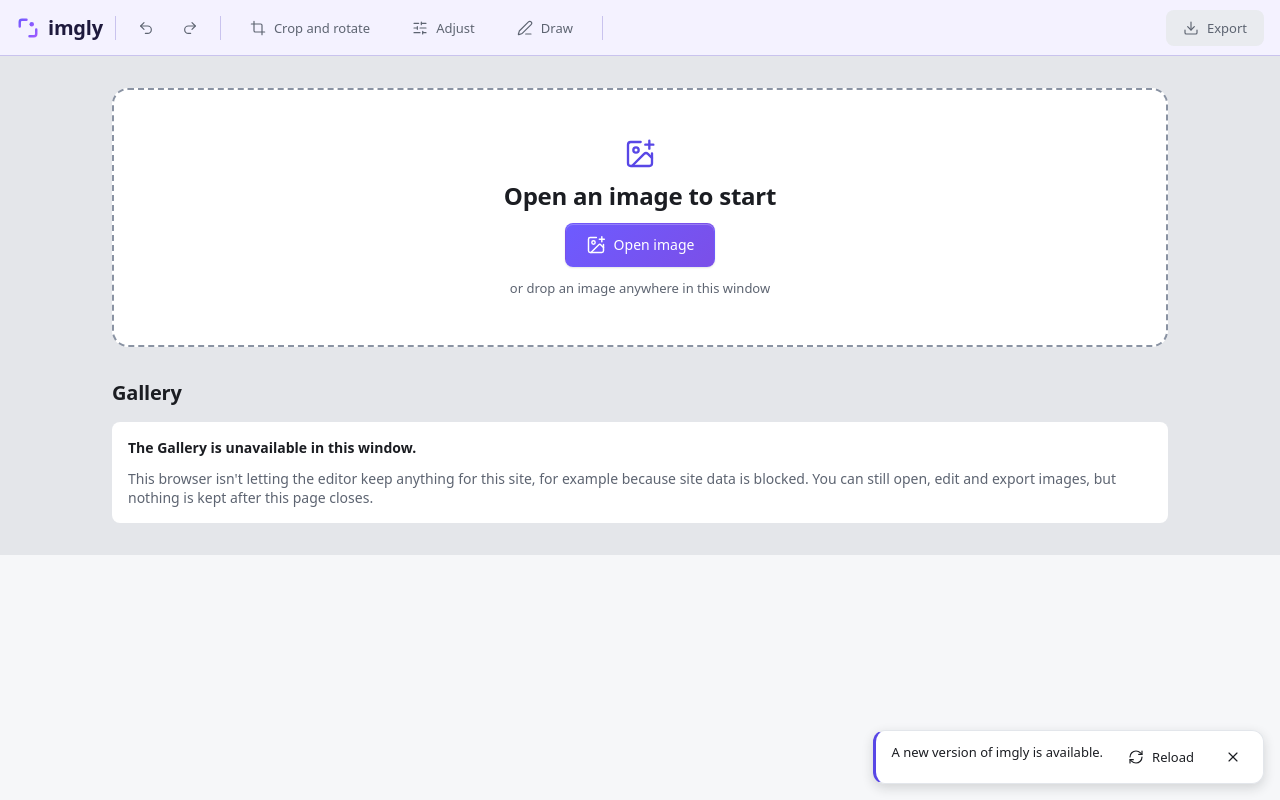
Test: App install and update wiring (pwa-install-update T12) › returns focus to the Reload action when Escape closes the confirmation (focused before the click: nothing) (SCR-06, AC-12)
The image size is (1280, 800).
Click the button "Reload" at (1161, 757), box [1115,743,1207,771]
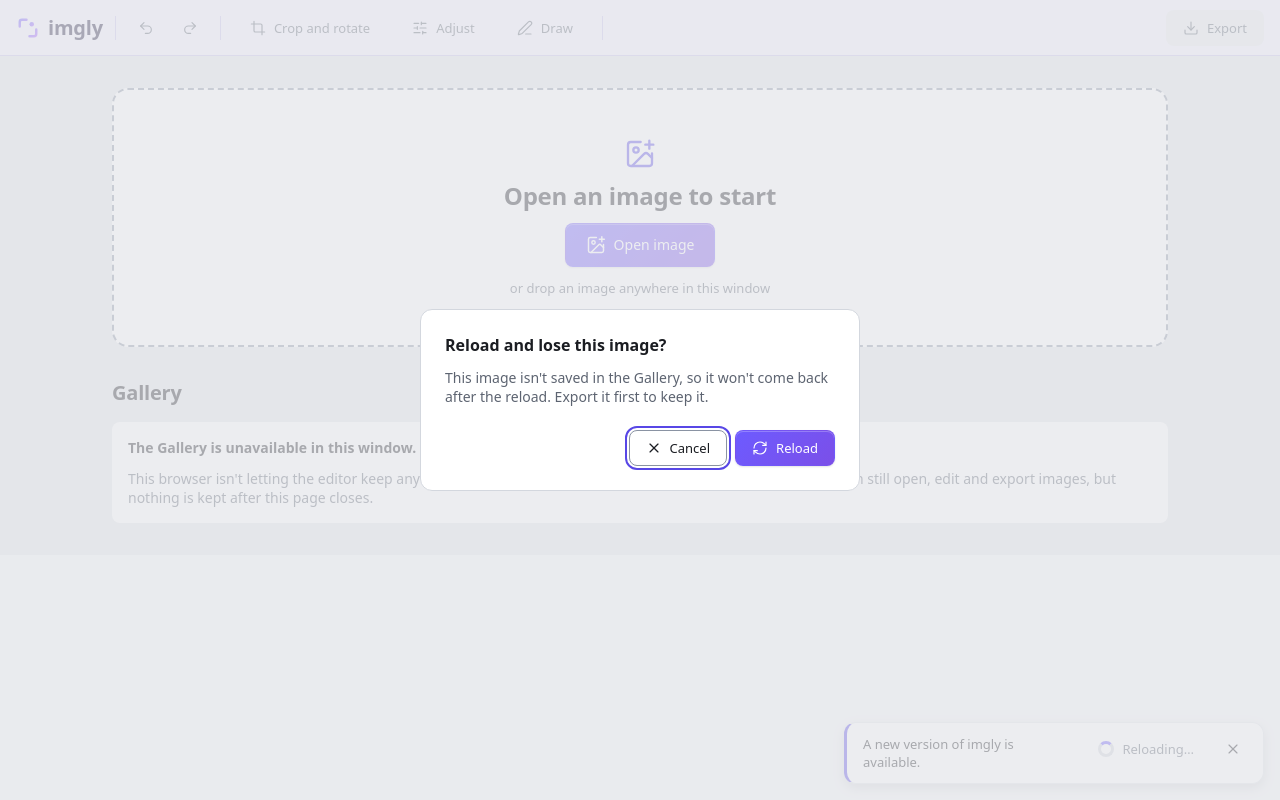
Now the dialog is shown
Press Escape in the dialog, box [420,309,860,491]
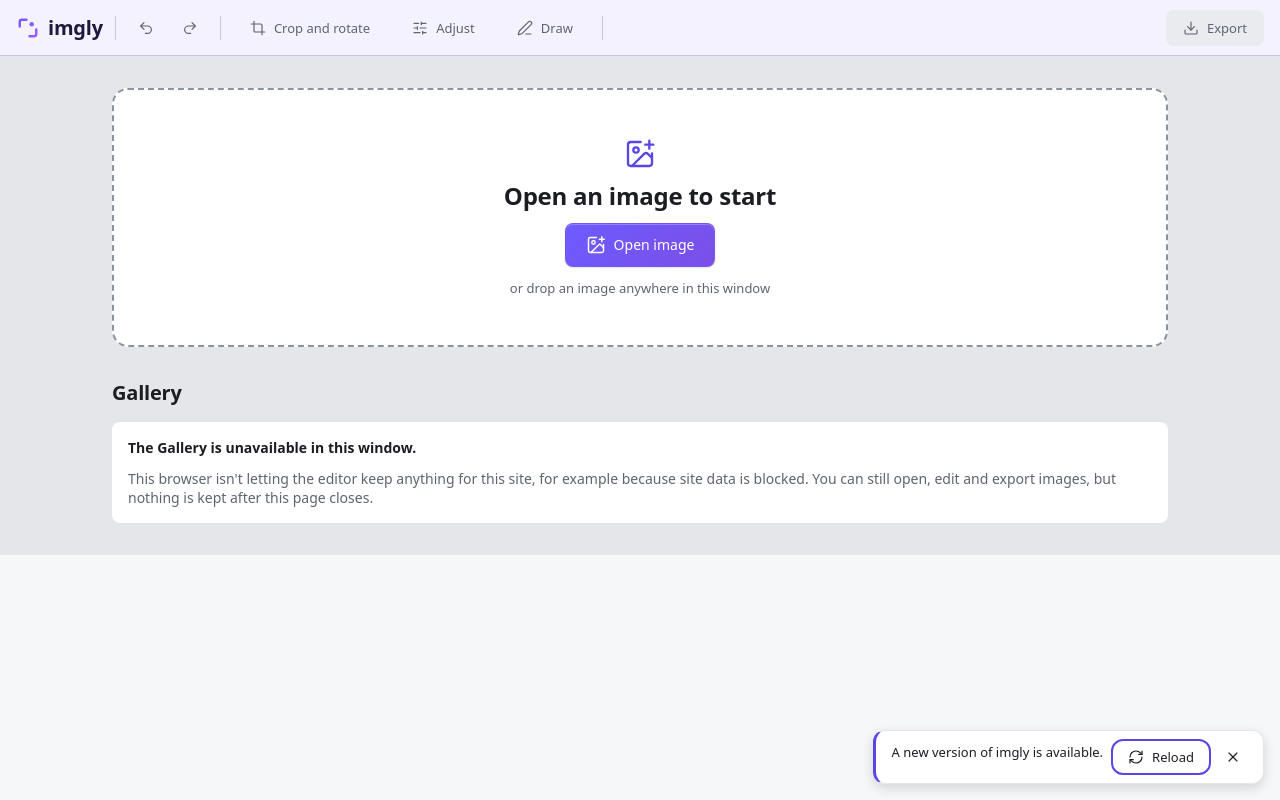
Now the dialog is gone
